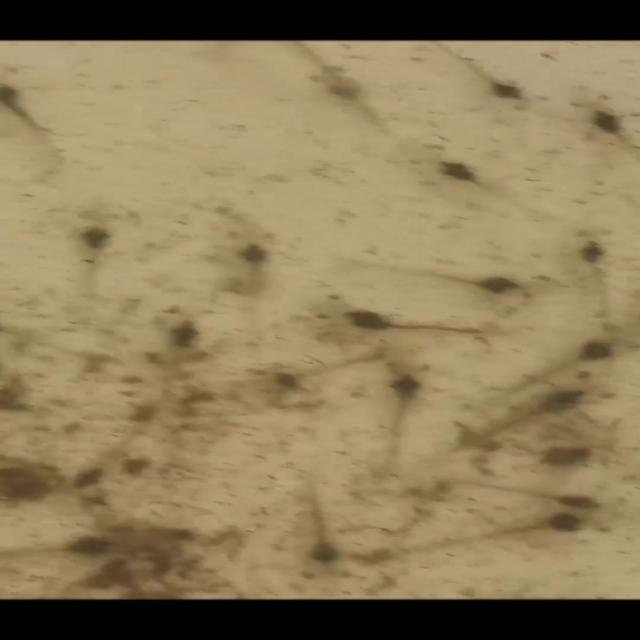shrimp: (341, 251, 544, 315), (476, 325, 637, 404), (392, 502, 600, 558), (471, 364, 613, 443), (405, 136, 534, 220), (280, 466, 371, 584), (187, 221, 296, 319), (304, 292, 492, 345), (30, 208, 123, 310), (417, 45, 540, 122), (420, 469, 622, 515), (266, 336, 395, 408), (558, 221, 637, 324), (302, 61, 395, 142), (364, 357, 434, 460), (558, 90, 631, 161), (152, 306, 203, 404)
